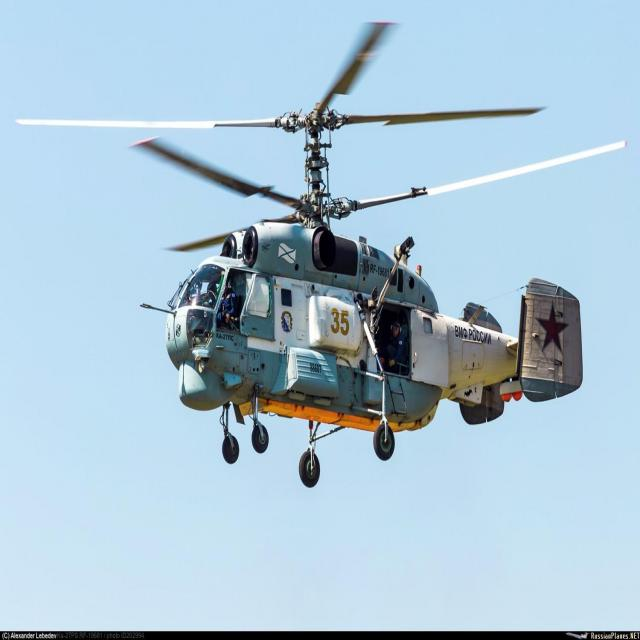MIL_HELO: (5, 13, 640, 499)
